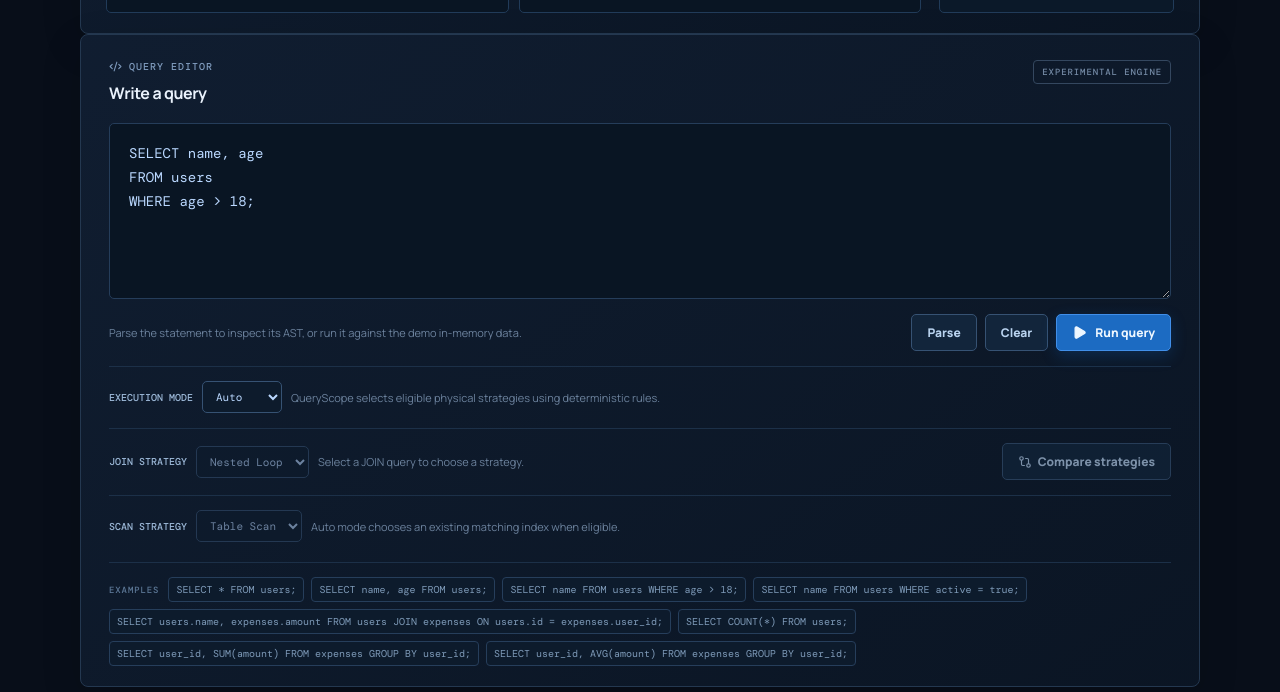
Test: App › shows a query execution error returned by the API
(page scrolled)
Click the button "Run query".
click(1114, 333)  # box [1056,314,1171,351]
(page scrolled)
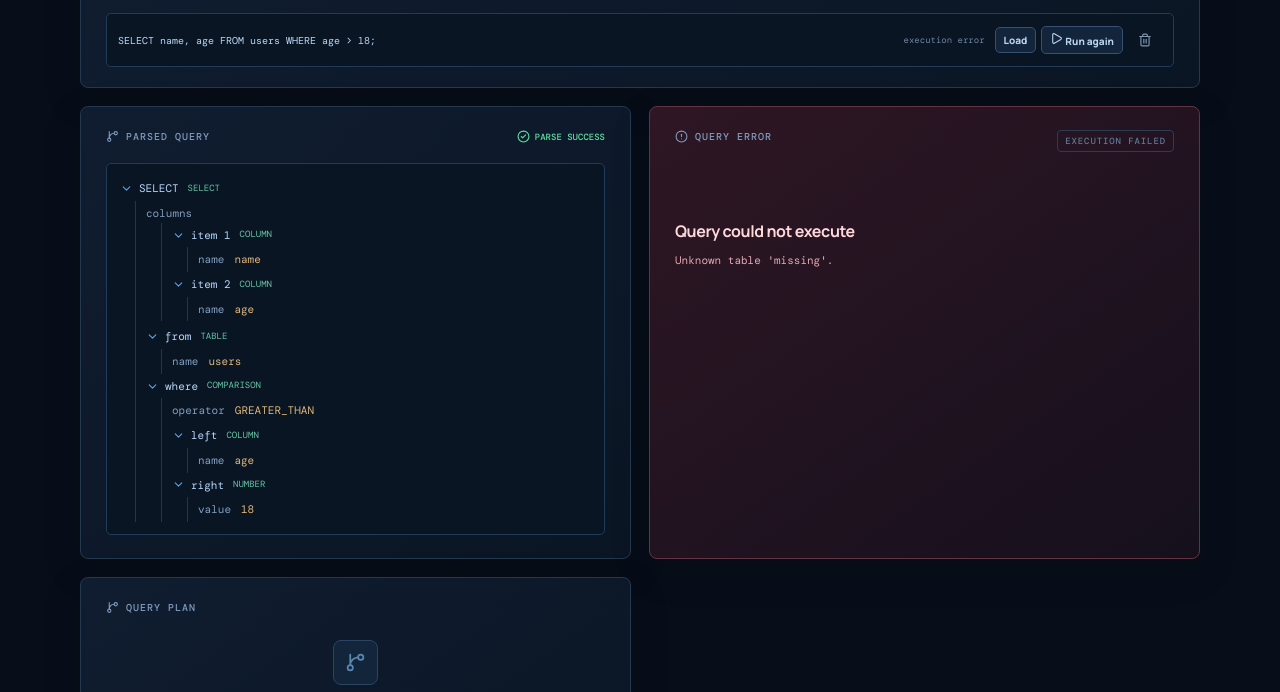
Result: the message shows "Unknown table 'missing'." at [675,252,833,266]
